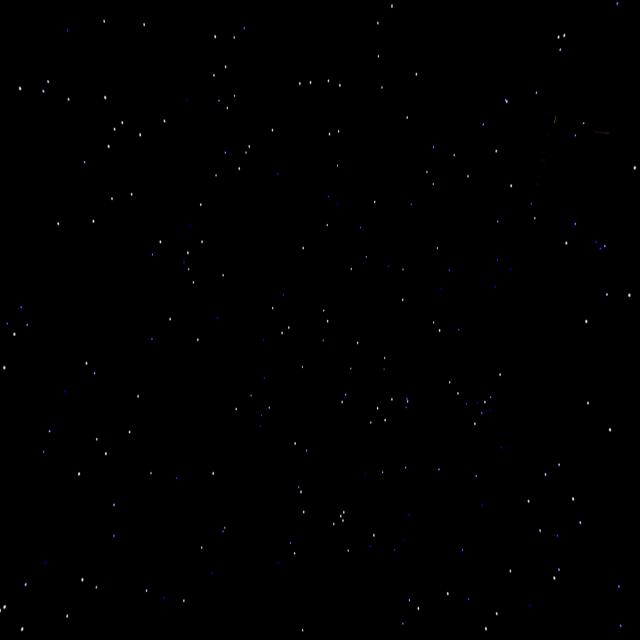medium_debris: (509, 85, 613, 203)
